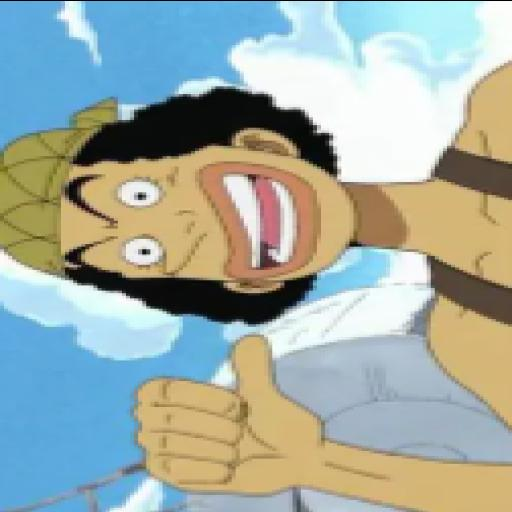Usopp: (0, 54, 512, 512)
